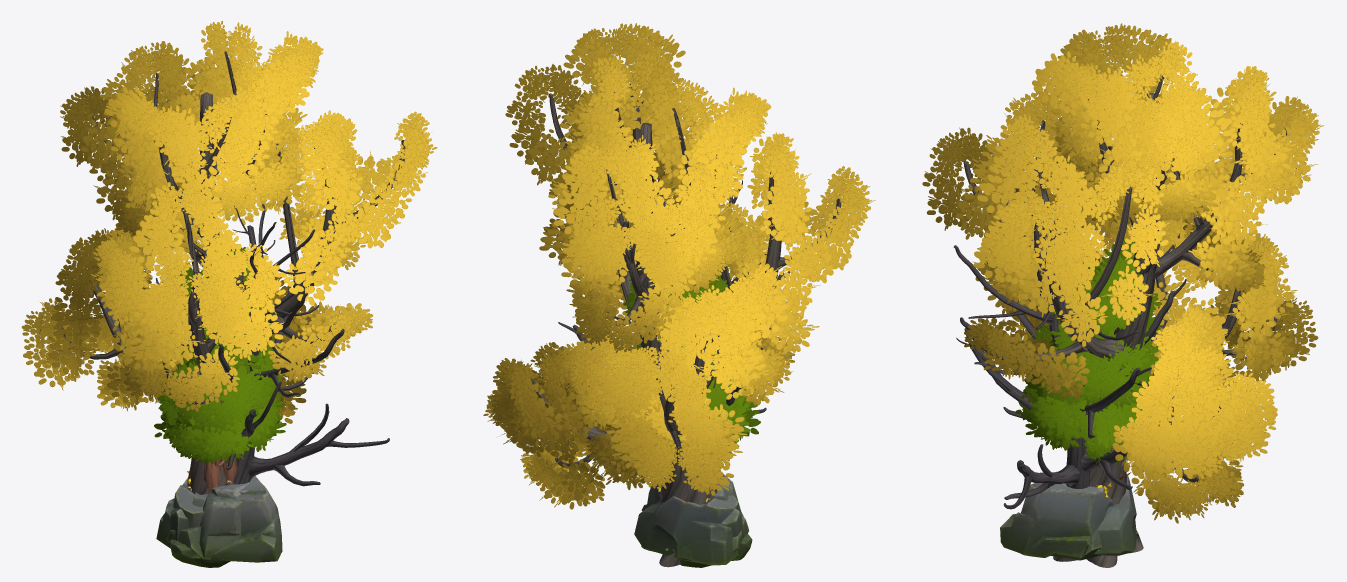
The model's file is natureza.glb.
3 renders of one model, left to right at view 1: azimuth 30°, elevation 25°; view 2: azimuth 150°, elevation 25°; view 3: azimuth 270°, elevation 25°, orthographic. The views are drawn at different scales.
Parts seen in each view (by area): view 1: TwistedTree_3, DeadTree_2, Rock_Medium_3, CommonTree_2, CommonTree_1, CommonTree_3, Rock_Medium_1, Rock_Medium_2, CommonTree_4, CommonTree_5; view 2: TwistedTree_3, Rock_Medium_2, Rock_Medium_3, Rock_Medium_1, CommonTree_2, CommonTree_4, CommonTree_1, DeadTree_2; view 3: TwistedTree_3, DeadTree_2, Rock_Medium_3, CommonTree_2, CommonTree_1, CommonTree_4, CommonTree_3, Rock_Medium_2, CommonTree_5.
Boxes of the visible parts, x1,y1,x2,y2 form: TwistedTree_3: (21, 21, 437, 494); DeadTree_2: (156, 204, 389, 486); Rock_Medium_3: (170, 476, 282, 567); CommonTree_2: (156, 341, 284, 482); CommonTree_1: (154, 348, 286, 463); CommonTree_3: (162, 251, 283, 482); Rock_Medium_1: (166, 483, 248, 559); Rock_Medium_2: (156, 478, 203, 548); CommonTree_4: (166, 244, 273, 492); CommonTree_5: (162, 357, 270, 461); TwistedTree_3: (483, 23, 875, 567); Rock_Medium_2: (634, 495, 738, 565); Rock_Medium_3: (641, 480, 752, 560); Rock_Medium_1: (648, 470, 749, 567); CommonTree_2: (636, 344, 759, 442); CommonTree_4: (623, 274, 728, 387); CommonTree_1: (681, 362, 760, 460); DeadTree_2: (558, 178, 801, 413); TwistedTree_3: (922, 23, 1323, 567); DeadTree_2: (953, 189, 1186, 561); Rock_Medium_3: (1000, 483, 1112, 557); CommonTree_2: (1015, 324, 1149, 464); CommonTree_1: (1021, 330, 1152, 467); CommonTree_4: (1047, 239, 1162, 358); CommonTree_3: (1023, 252, 1160, 461); Rock_Medium_2: (1094, 476, 1136, 555); CommonTree_5: (1034, 336, 1163, 440).
Size of the model in its own units: 11.36 by 16.21 by 11.51.
Materials: 12 (12 with a texture image).
